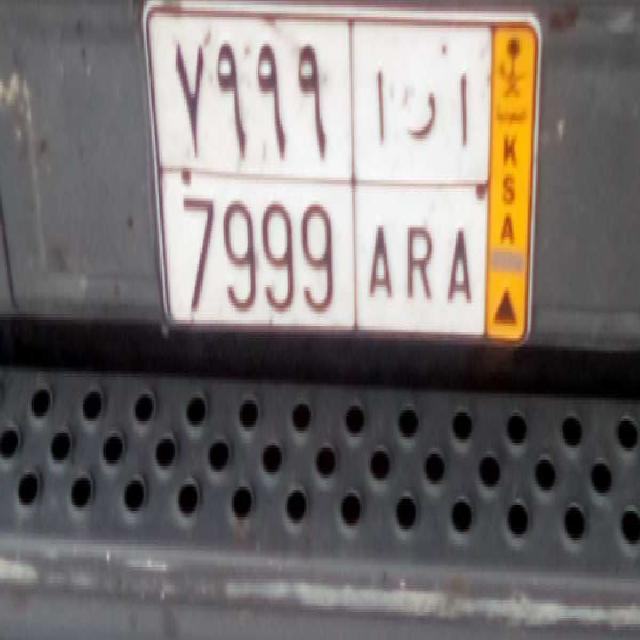license_plate: (158, 175, 486, 336)
